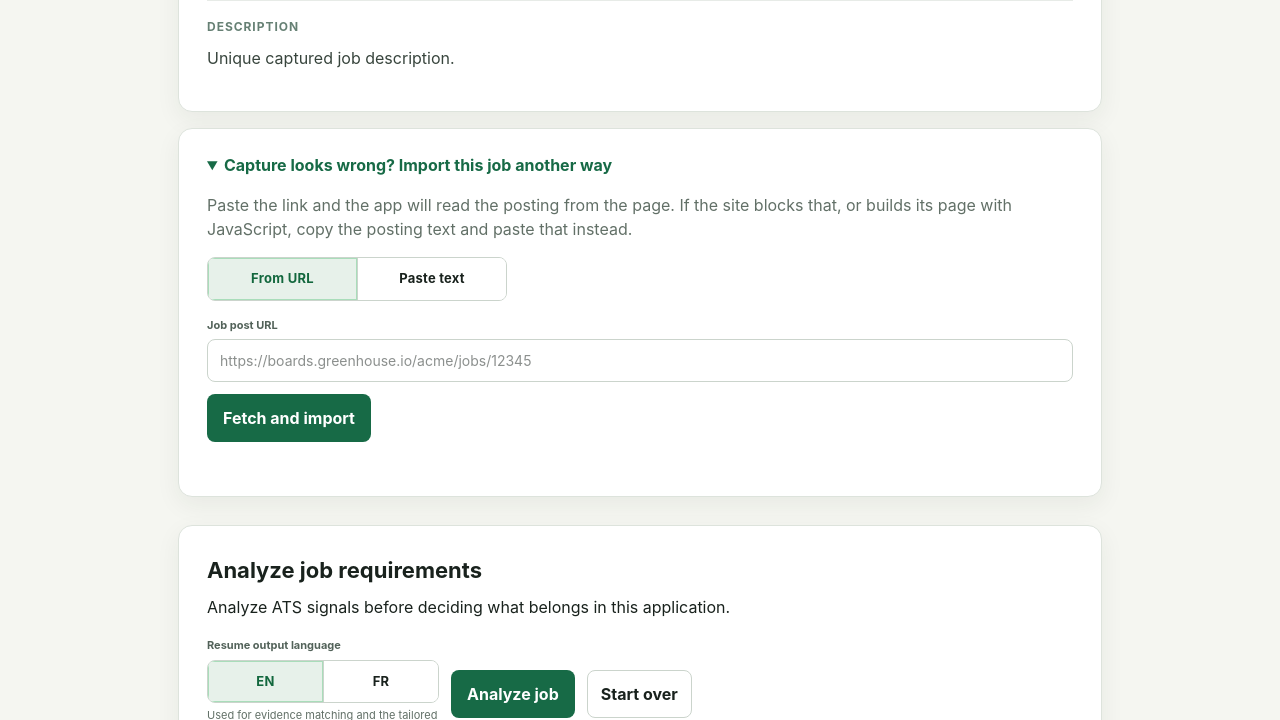
Test: importing a job by hand › replaces a bad capture and stops at the review screen
The width and height of the screenshot is (1280, 720).
(page scrolled)
Check: the text "Unique captured job description." is shown, box [207, 48, 455, 68]
Type "https://boards.greenhouse.io/acme/jobs/1" into the field labelled "Job post URL". click: (640, 360)
box: [207, 339, 1073, 382]
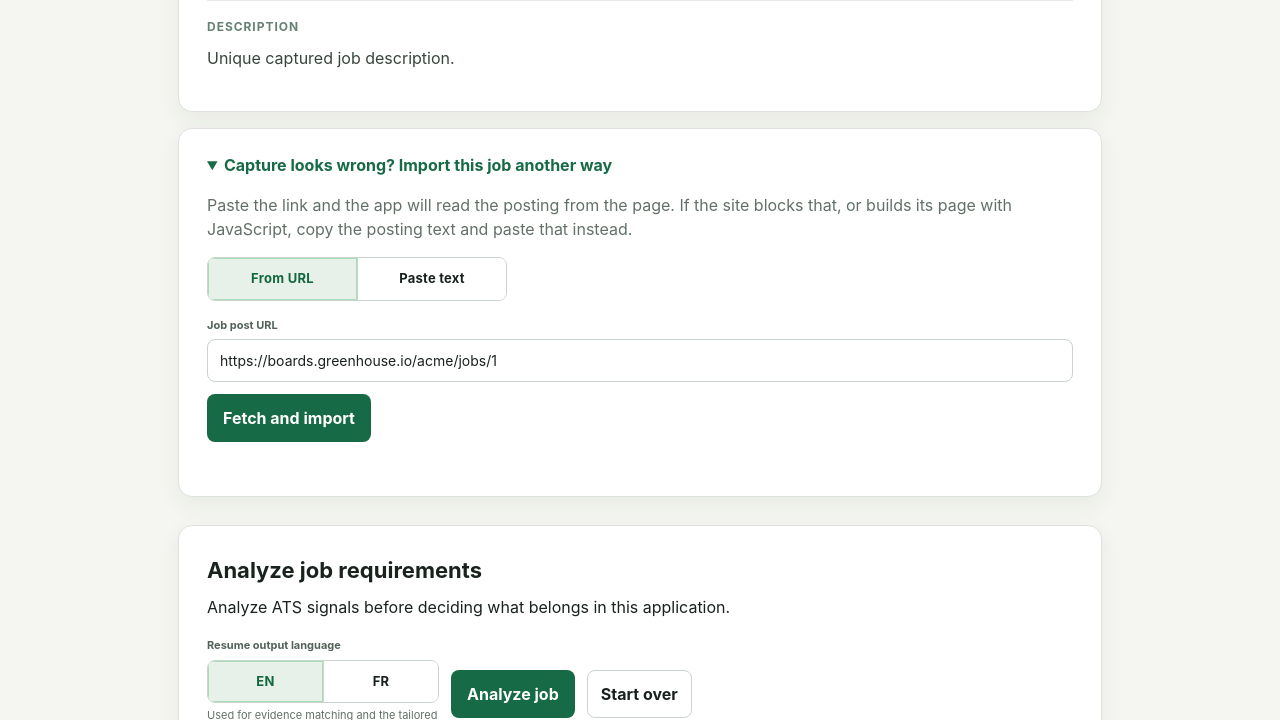
Click the button "Fetch and import". click: (289, 418)
box: [207, 394, 371, 442]
(page scrolled)
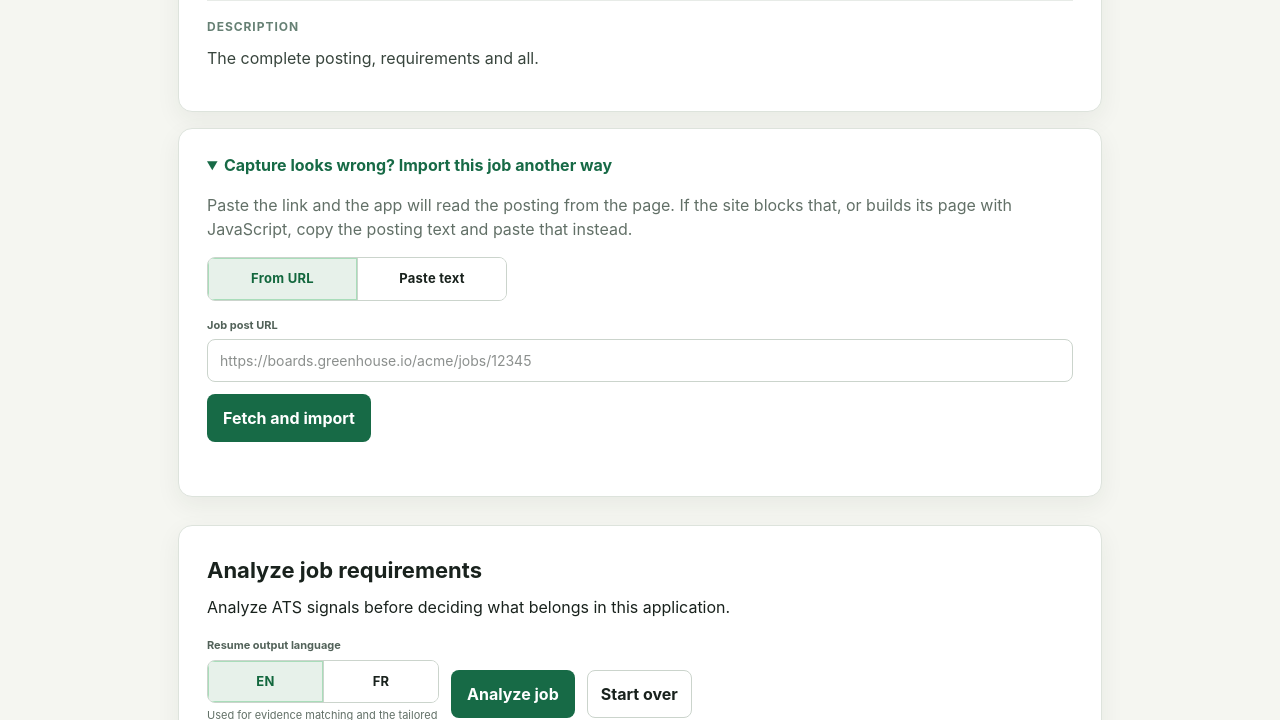
Check: the button "Analyze job" is shown, box [451, 670, 575, 718]
Check: the text "The complete posting, requirements and all." is shown, box [207, 48, 539, 68]
Check: the text "Unique captured job description." is gone
